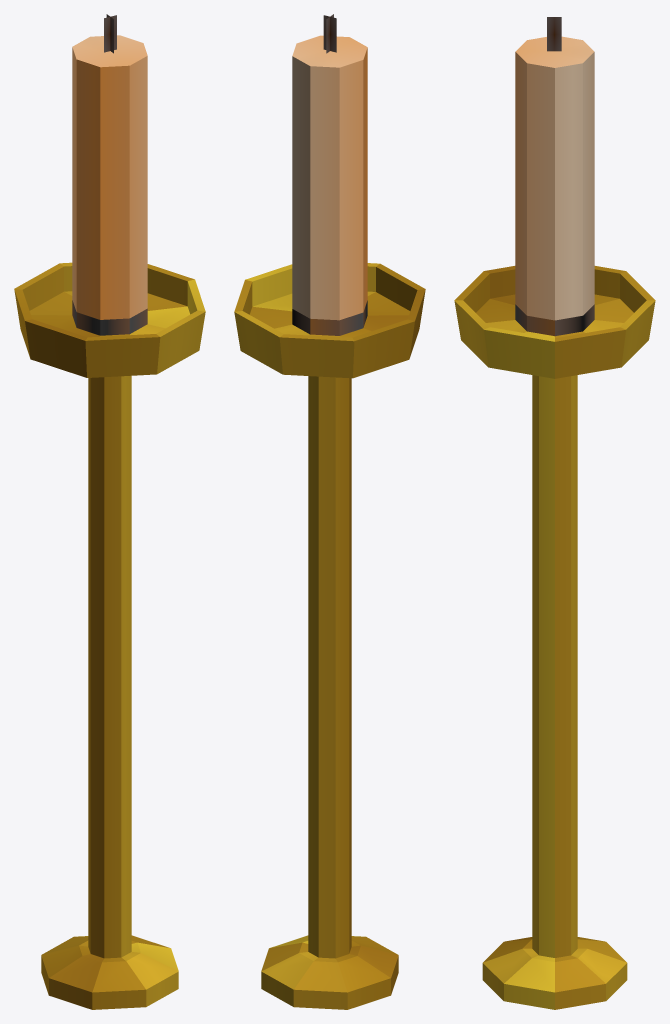
Rendered from candle_336x13.obj.
3 renders of one model, left to right at view 1: azimuth 30°, elevation 25°; view 2: azimuth 150°, elevation 25°; view 3: azimuth 270°, elevation 25°, orthographic.
Parts seen in each view (by area): view 1: Candle_336x13; view 2: Candle_336x13; view 3: Candle_336x13.
Boxes of the visible parts, x1,y1,x2,y2 form: Candle_336x13: (14,14,205,1009); Candle_336x13: (234,14,425,1009); Candle_336x13: (454,17,655,1009).
Size of the model in its own units: 0.3725 by 2.02 by 0.3821.
